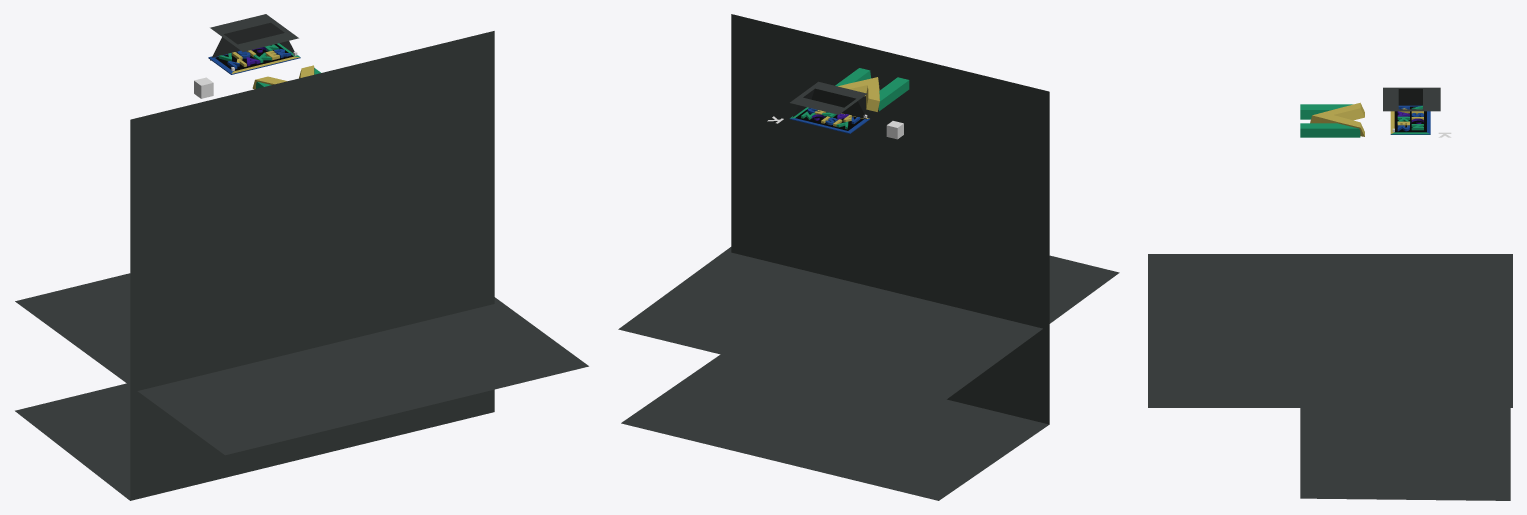
Rendered from visionmaker.gltf.
The picture shows the model from 3 angles, left to right: view 1: azimuth 30°, elevation 25°; view 2: azimuth 150°, elevation 25°; view 3: azimuth 270°, elevation 25°; orthographic projection. The views are drawn at different scales.
Parts seen in each view (by area): view 1: Plane.005, Plane.004, Plane.003, Plane.002; view 2: Plane.005, Plane.004, Plane.003, BezierCircle.024, Plane.002; view 3: Plane.004, Plane.005, BezierCircle.024, Plane.003, Plane.002.
Part boxes in pixels (<box>): Plane.005: <box>15,31,494,500</box>; Plane.004: <box>15,273,588,455</box>; Plane.003: <box>210,14,298,60</box>; Plane.002: <box>208,43,300,74</box>; Plane.005: <box>621,14,1049,500</box>; Plane.004: <box>618,247,1119,406</box>; Plane.003: <box>790,81,867,121</box>; BezierCircle.024: <box>835,68,909,111</box>; Plane.002: <box>789,107,869,133</box>; Plane.004: <box>1148,254,1512,407</box>; Plane.005: <box>1300,408,1510,500</box>; BezierCircle.024: <box>1300,102,1364,137</box>; Plane.003: <box>1383,87,1440,111</box>; Plane.002: <box>1390,105,1430,134</box>.
Bounding box in the file's own units: 13.17 × 12.91 × 12.91.
